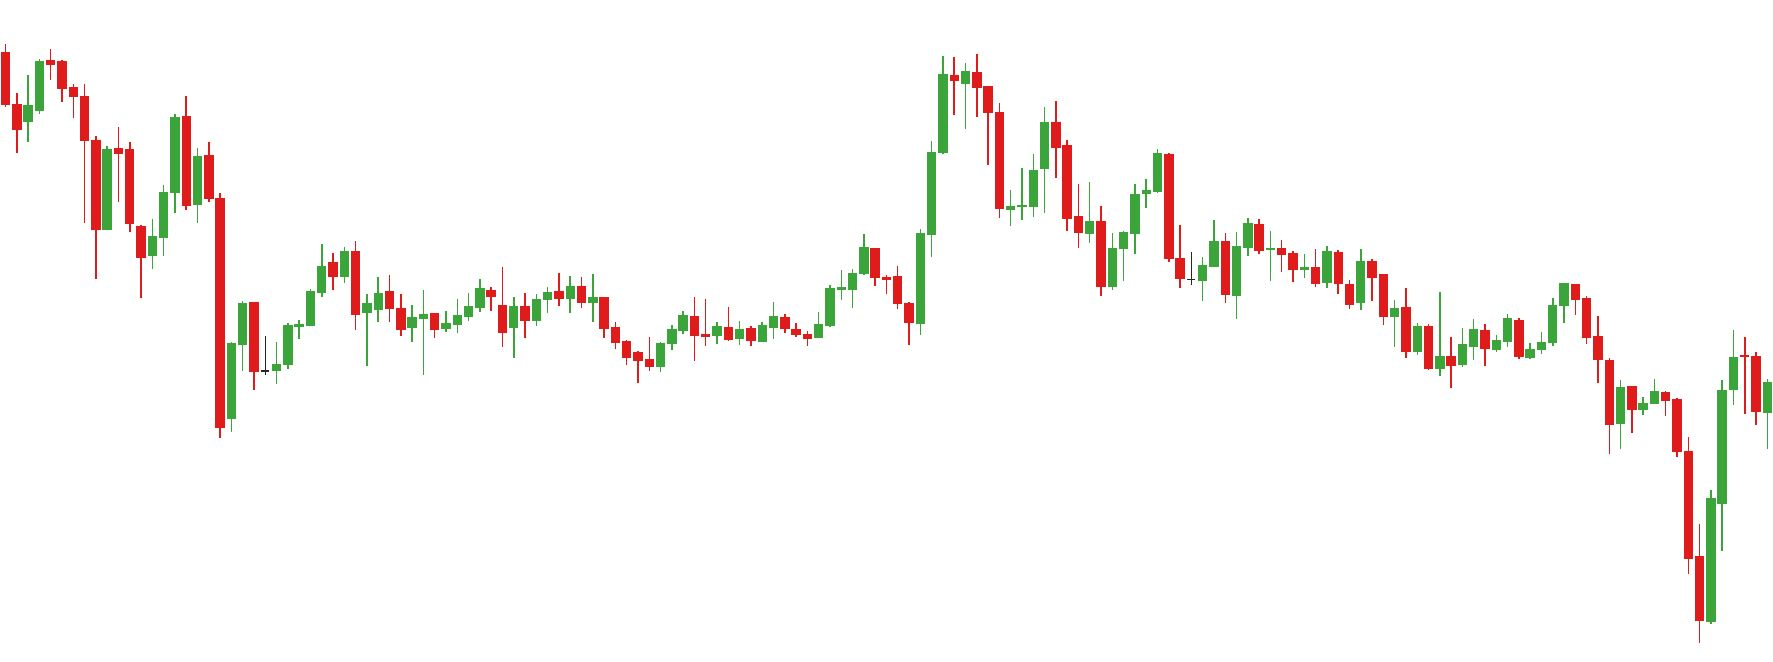buy: (508, 307, 668, 387), (803, 291, 915, 349)
sell: (111, 98, 190, 237), (1436, 285, 1581, 342)
